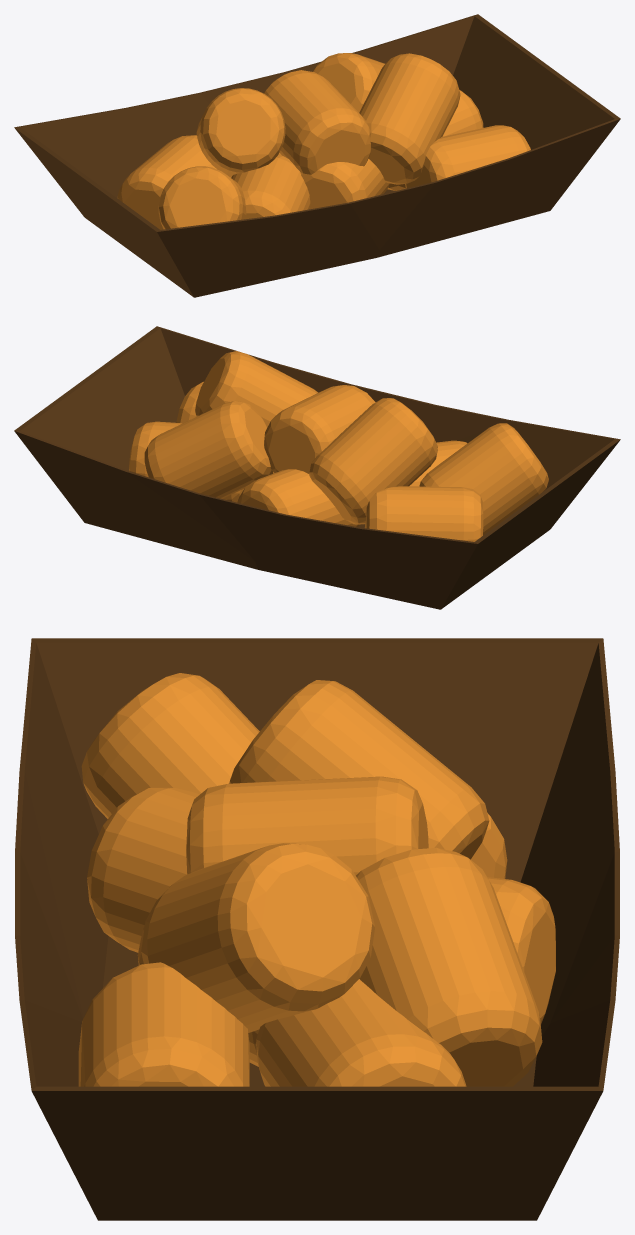
The model's file is TatersBoi.fbx.
The picture shows the model from 3 angles, top to bottom: view 1: azimuth 30°, elevation 25°; view 2: azimuth 150°, elevation 25°; view 3: azimuth 270°, elevation 25°; orthographic projection. The views are drawn at different scales.
Parts seen in each view (by area): view 1: Cube, Cylinder.007; view 2: Cube, Cylinder.007; view 3: Cube, Cylinder.007.
Boxes of the visible parts, x1=… form: Cube: x1=14, y1=14, x2=620, y2=297; Cylinder.007: x1=117, y1=53, x2=530, y2=229; Cube: x1=14, y1=326, x2=620, y2=609; Cylinder.007: x1=129, y1=351, x2=548, y2=541; Cube: x1=15, y1=638, x2=619, y2=1220; Cylinder.007: x1=78, y1=673, x2=555, y2=1086.
Size of the model in its own units: 488 by 144 by 276.
